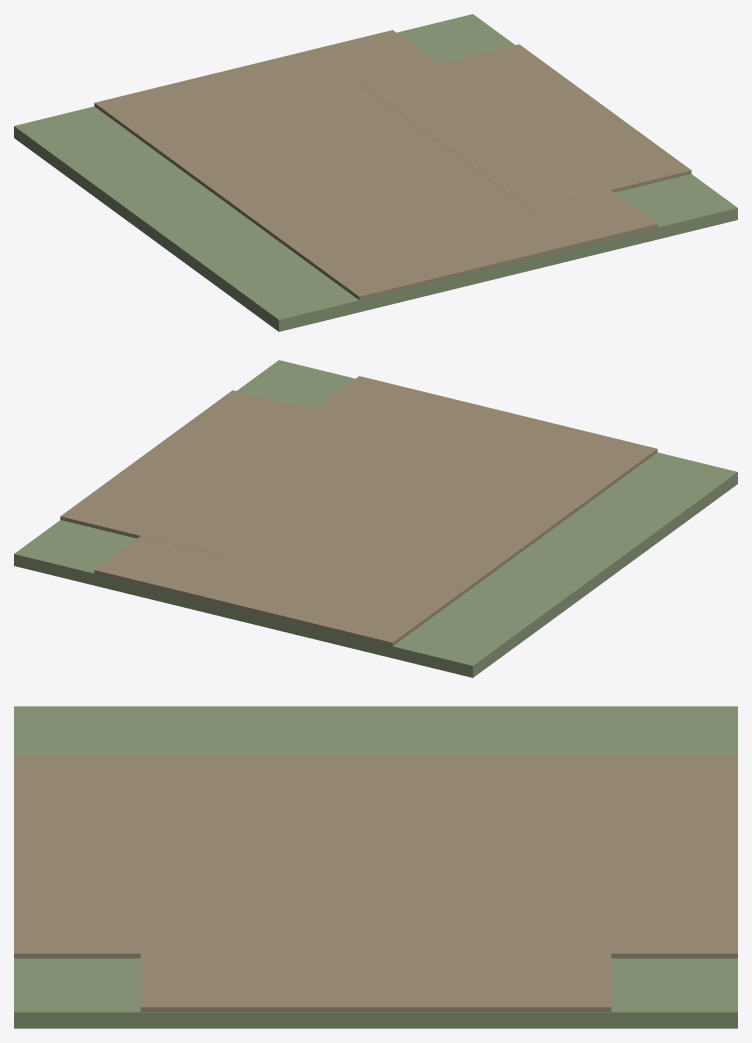
File: road_dirt_tjunction.glb
The picture shows the model from 3 angles, top to bottom: view 1: azimuth 30°, elevation 25°; view 2: azimuth 150°, elevation 25°; view 3: azimuth 270°, elevation 25°; orthographic projection. The views are drawn at different scales.
Visible parts, largest first — view 1: road_dirt_tjunction; view 2: road_dirt_tjunction; view 3: road_dirt_tjunction.
Boxes of the visible parts, left/top/right/bottom form: road_dirt_tjunction: left=14, top=14, right=737, bottom=331; road_dirt_tjunction: left=14, top=360, right=737, bottom=677; road_dirt_tjunction: left=14, top=706, right=737, bottom=1028.
Bounding box in the file's own units: 4 × 0.131 × 4.
